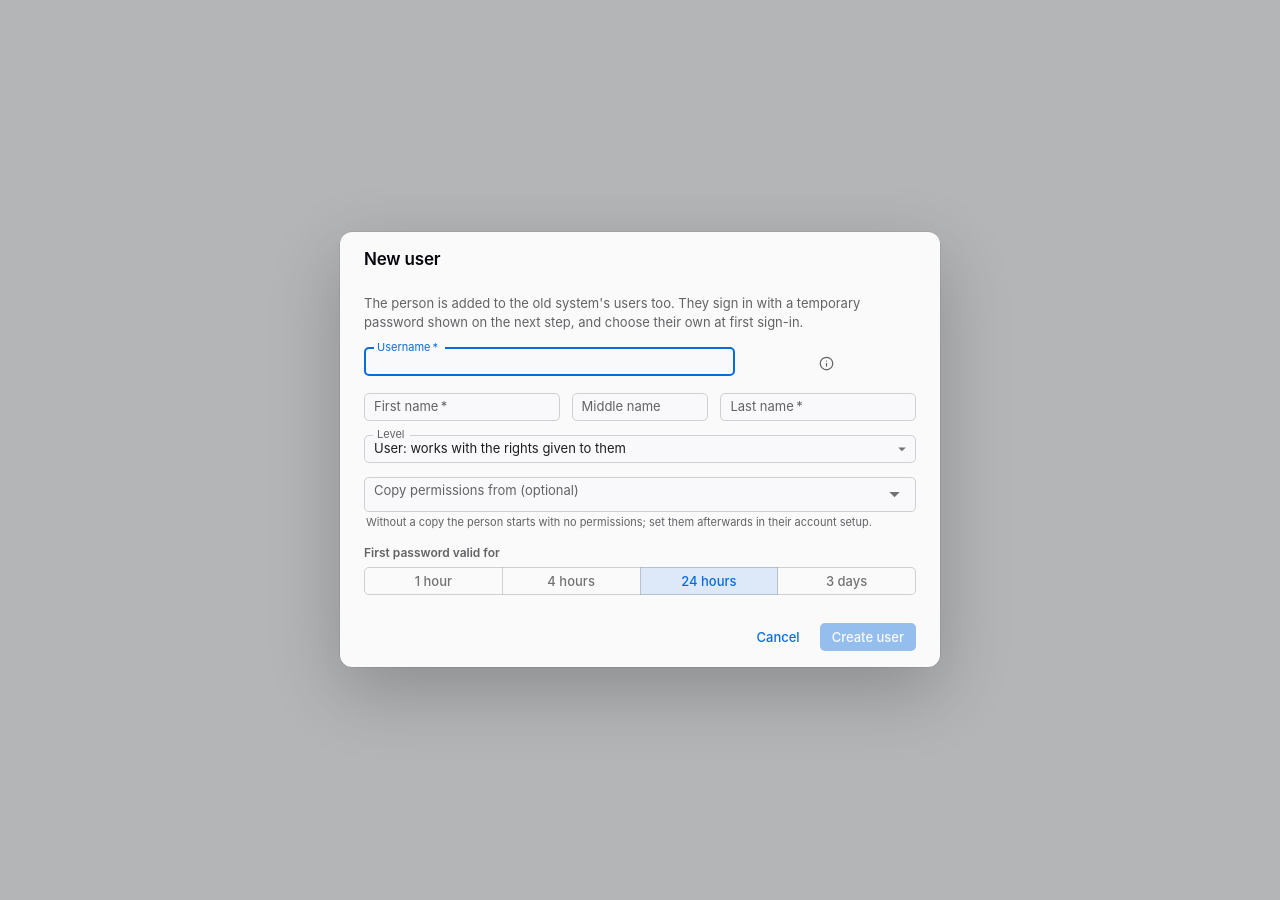
Test case: New user › shows why the server refused
The image size is (1280, 900).
Step 1. Type "nina" into the field labelled "Username" → (549, 362), box x1=364 y1=348 x2=734 y2=376
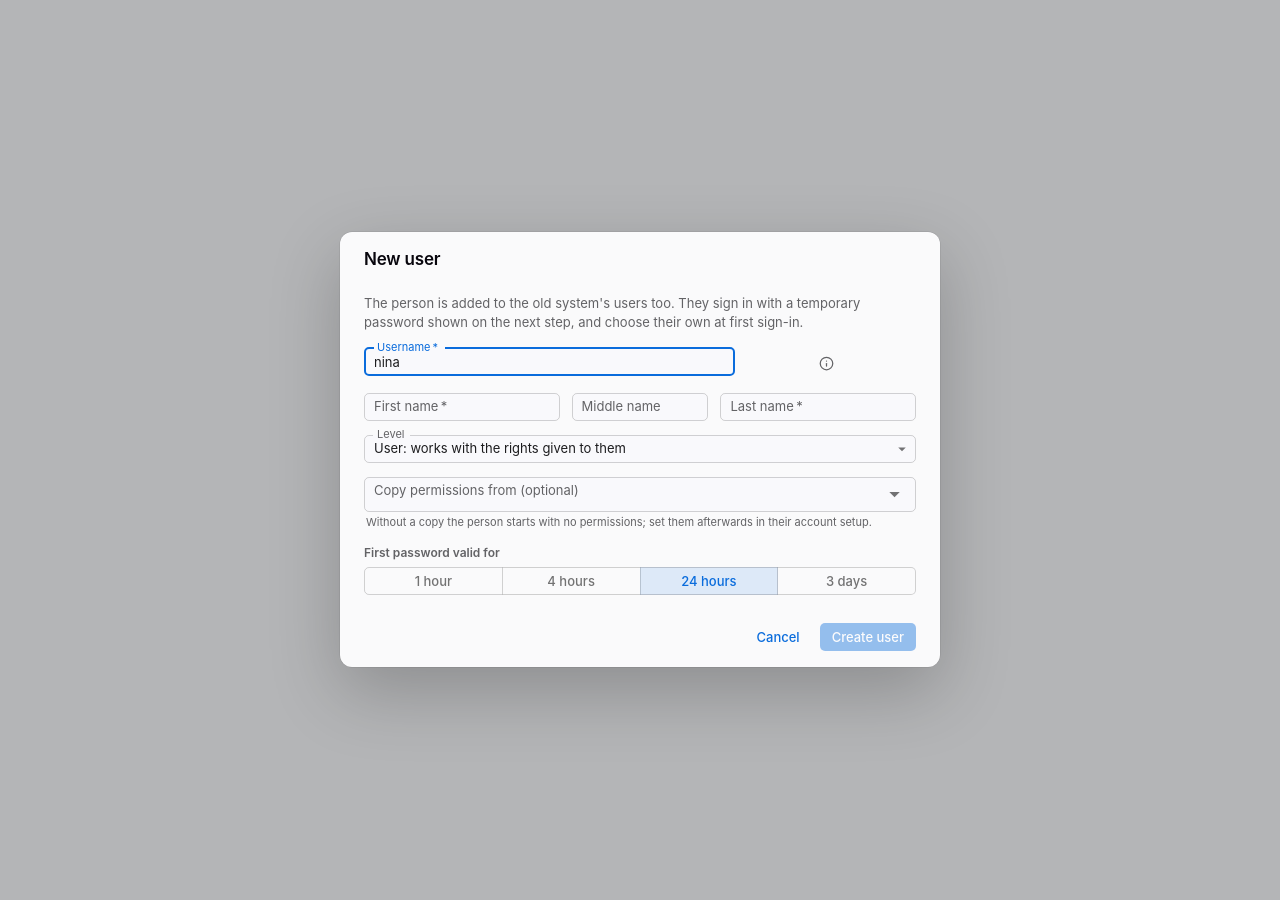
Step 2. Type "Nina" into the field labelled "First name" → (462, 407), box x1=364 y1=393 x2=560 y2=421
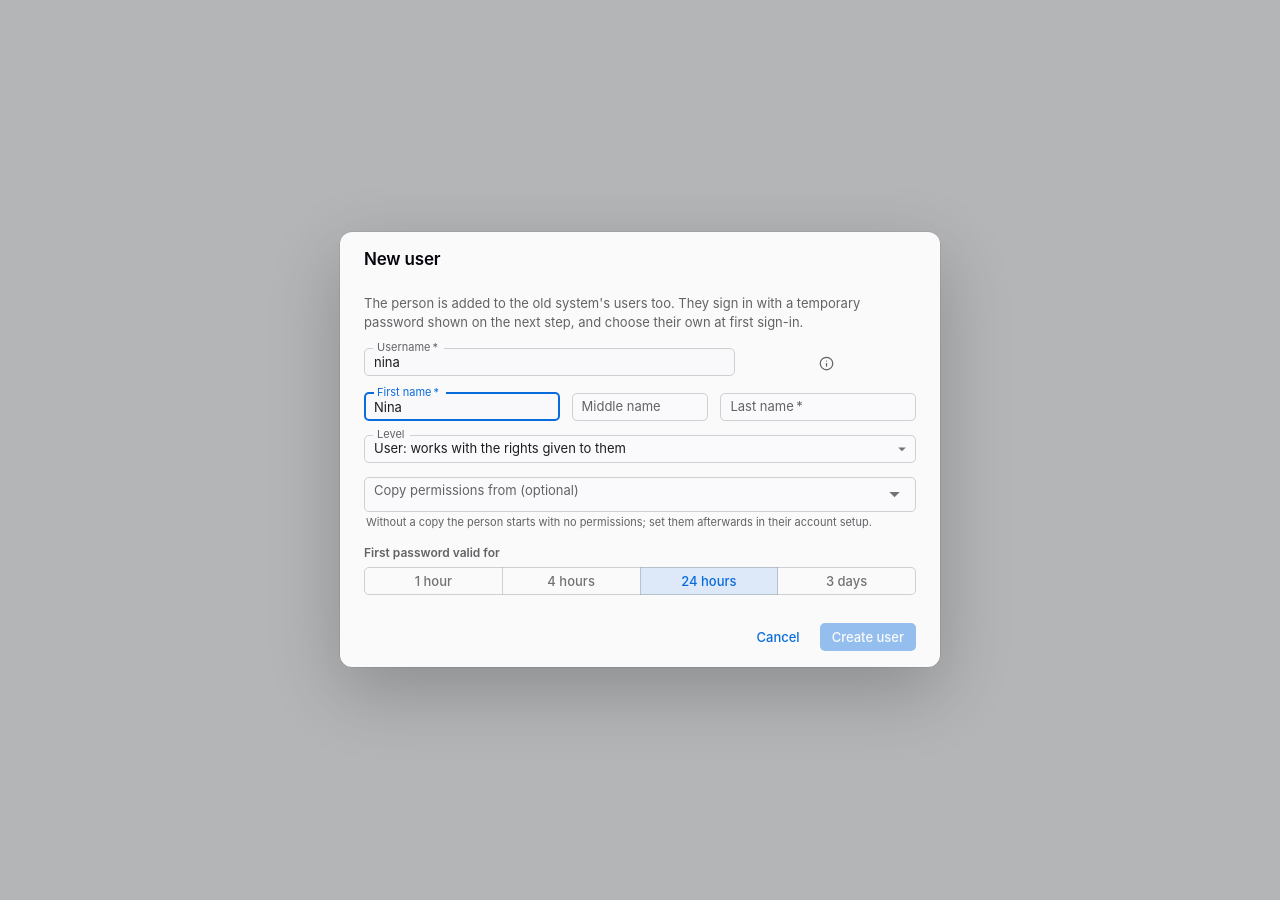
Step 3. Type "Santos" into the field labelled "Last name" → (818, 407), box x1=720 y1=393 x2=916 y2=421
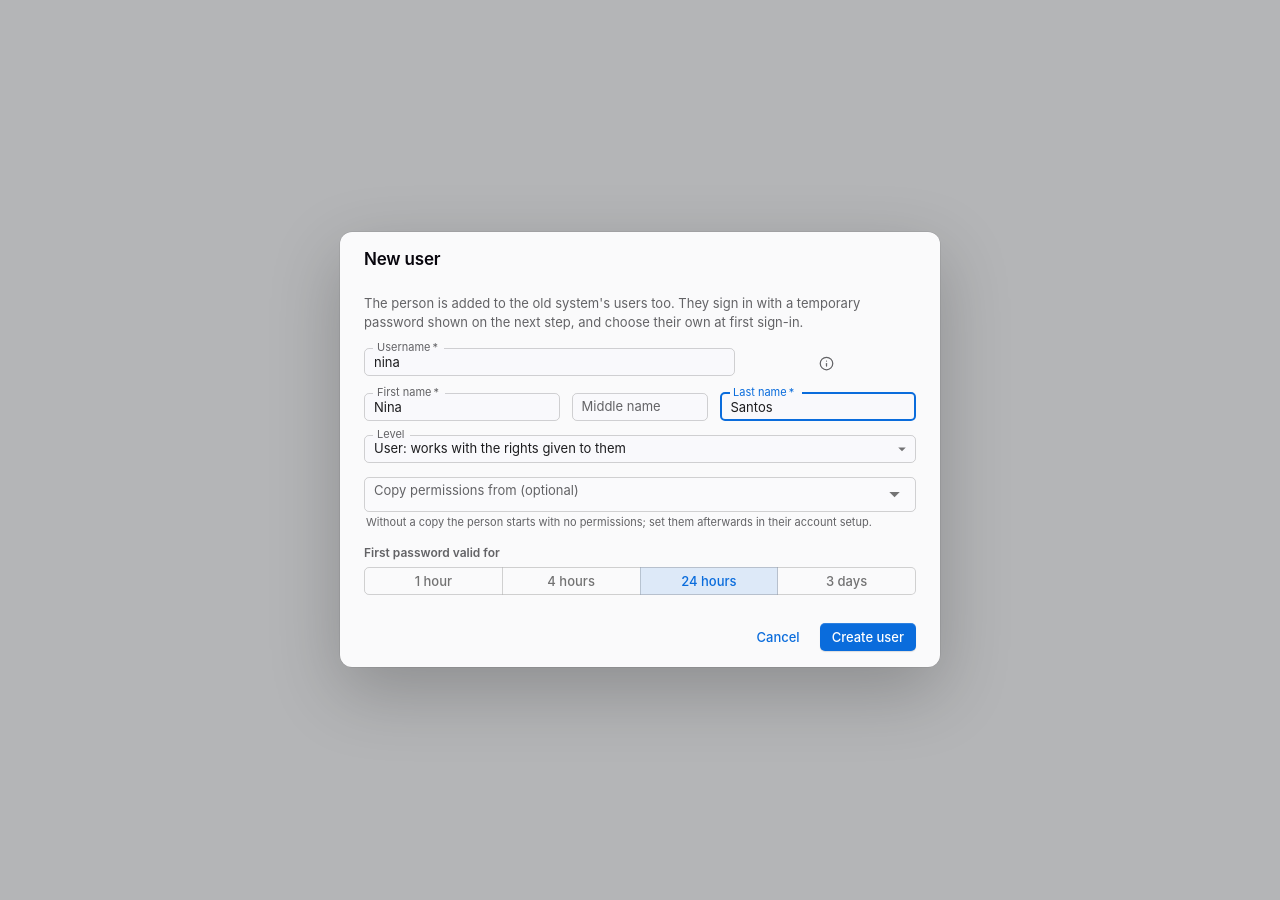
Step 4. Click the button "Create user" → (868, 638), box x1=820 y1=624 x2=916 y2=652
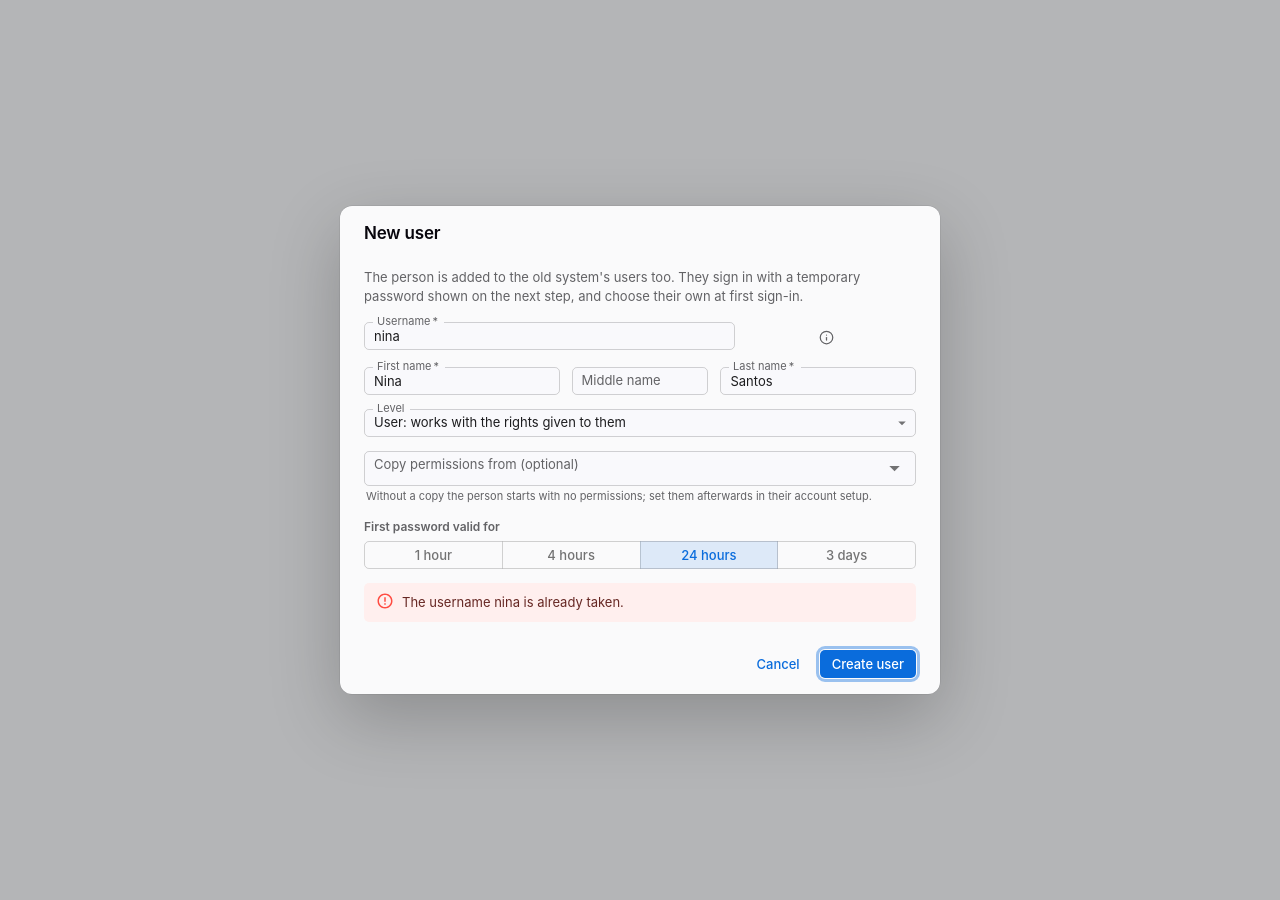
Result: the text "The username nina is already taken." is shown at x1=402 y1=594 x2=624 y2=610
